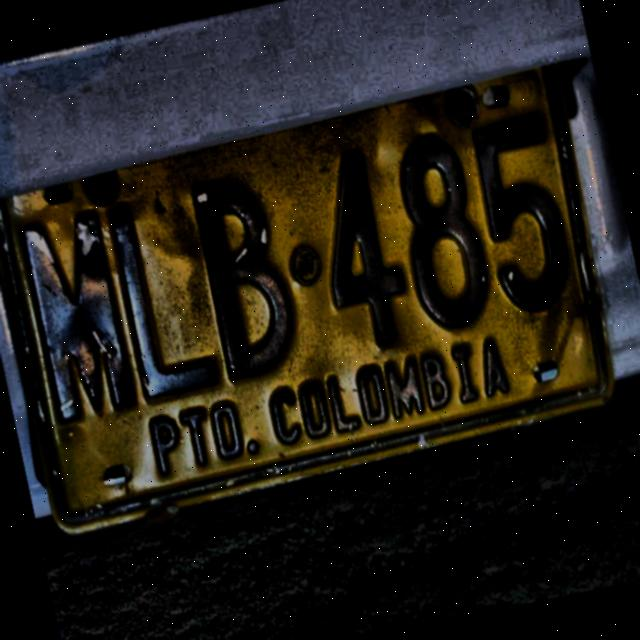plate: (0, 67, 604, 525)
